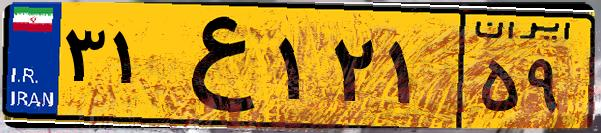1: (270, 28, 330, 110), (385, 28, 445, 110), (110, 28, 158, 98)
2: (330, 28, 385, 110)
3: (57, 26, 110, 100)
5: (475, 38, 525, 113)
9: (525, 38, 570, 115)
ع: (158, 12, 270, 120)
